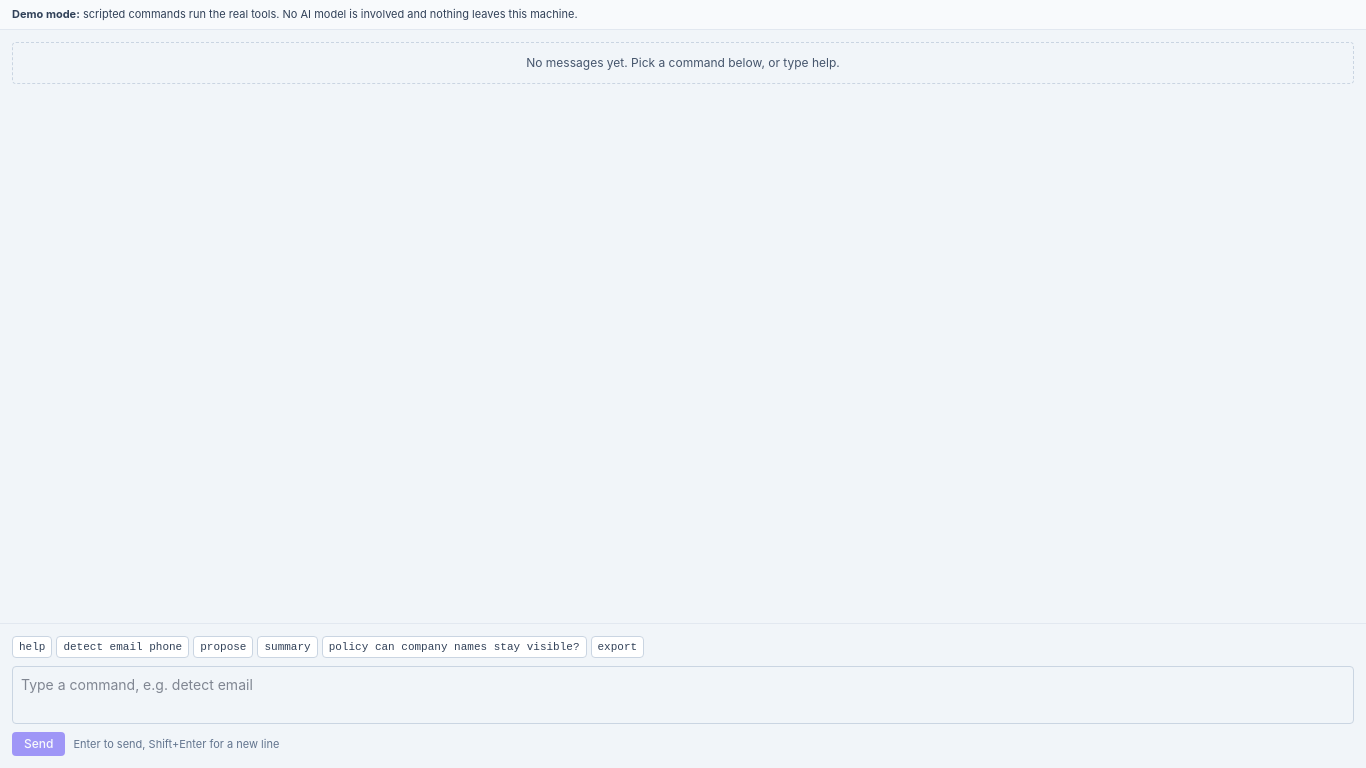
Scenario: ChatPanel: sending and watching a request › shows the tool activity while it works
The image size is (1366, 768).
Type "find" into the text box named "Message to the assistant" at (683, 695), box [12, 666, 1354, 724]
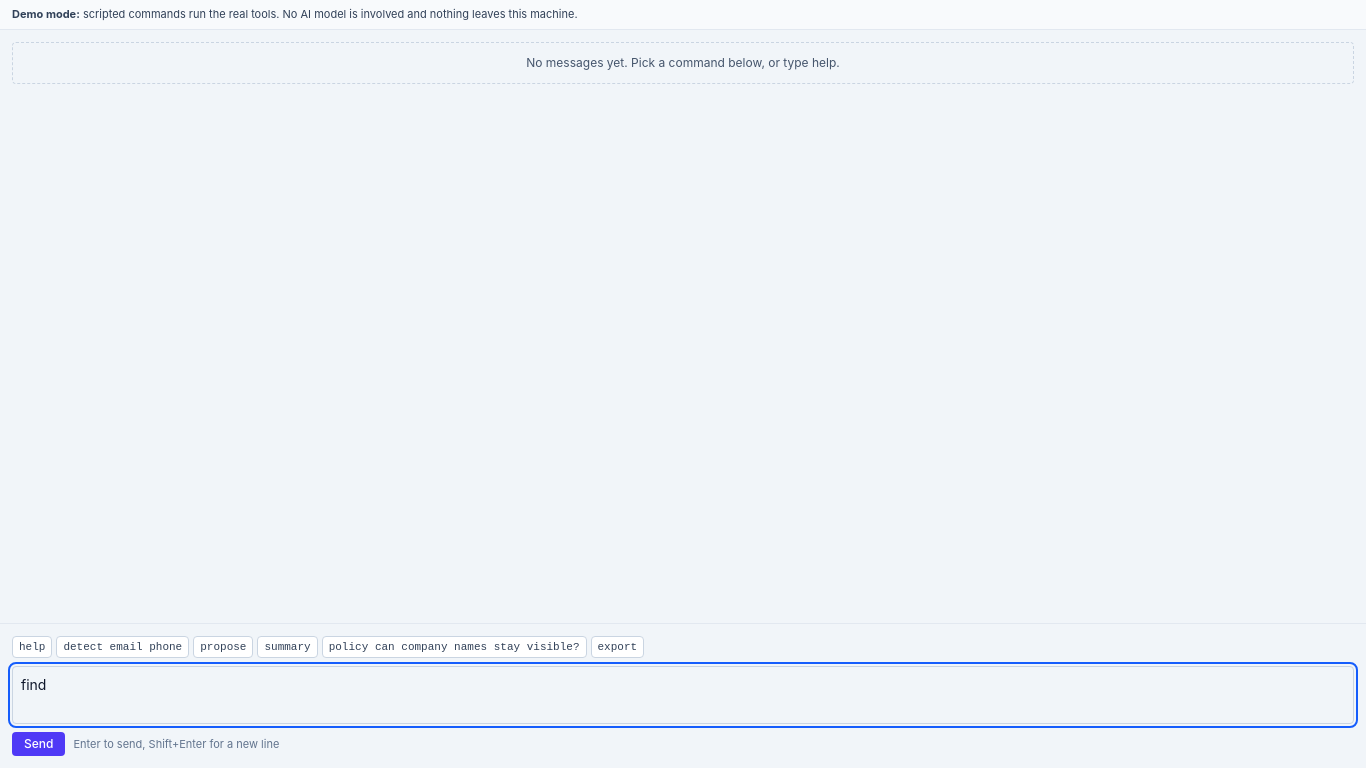
Click the button "Send" at (39, 744), box [12, 732, 65, 756]
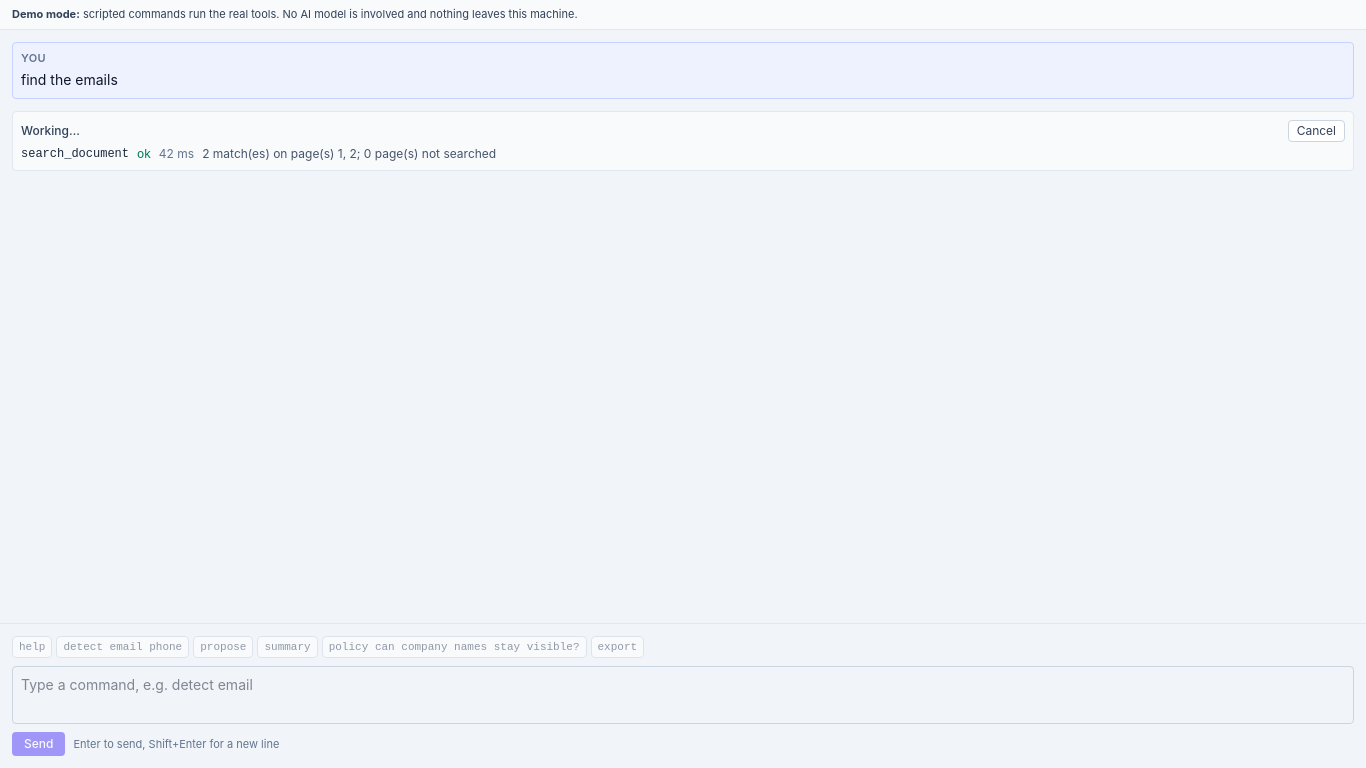
Check: the text "search_document" is shown, box [21, 146, 129, 162]
Check: the text "2 match(es) on page(s) 1, 2; 0 page(s) not searched" is shown, box [202, 146, 496, 162]
Check: the text "ok" is shown, box [137, 146, 151, 162]
